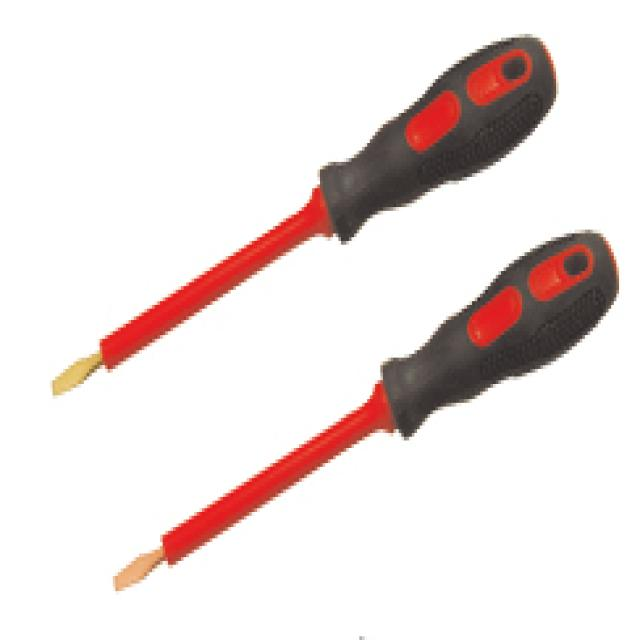screw_driver: (50, 34, 561, 399), (113, 230, 622, 595)
